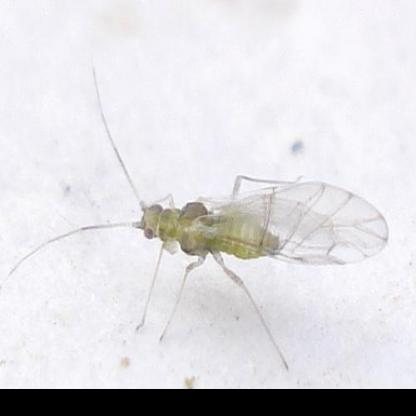aphid: (56, 101, 389, 360)
